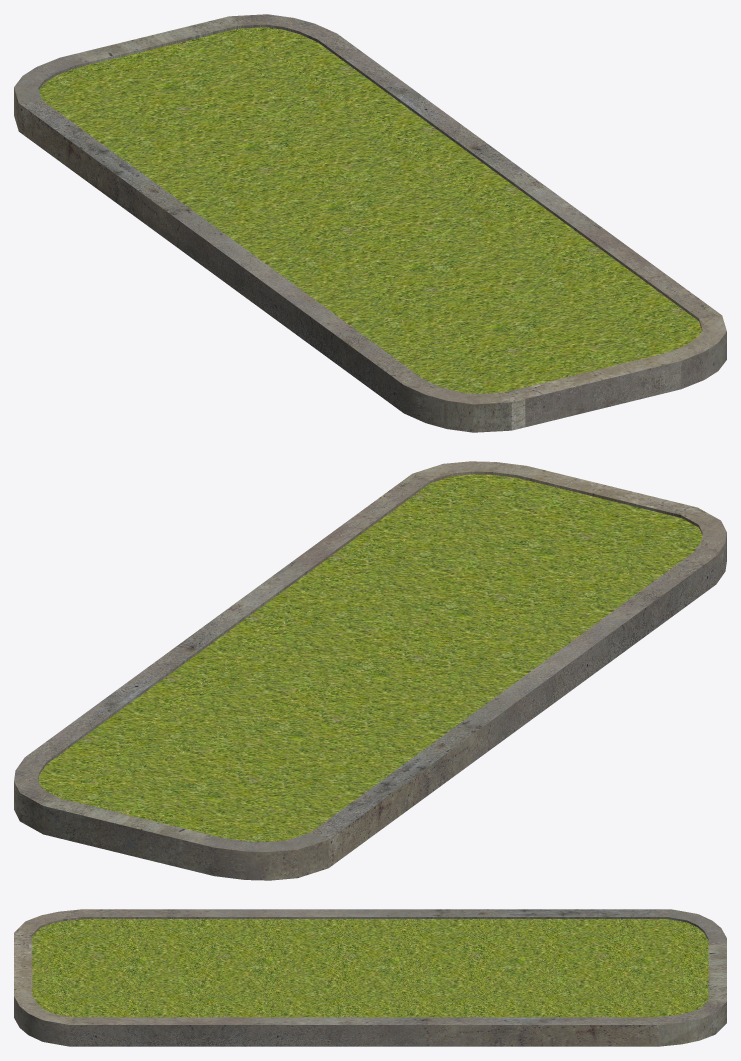
3 views of the same model, one above another, from view 1: azimuth 30°, elevation 25°; view 2: azimuth 150°, elevation 25°; view 3: azimuth 270°, elevation 25° (orthographic). The views are drawn at different scales.
Visible parts, largest first — view 1: Mesh (161); view 2: Mesh (161); view 3: Mesh (161).
Boxes of the visible parts, left/top/right/bottom form: Mesh (161): left=14, top=14, right=726, bottom=432; Mesh (161): left=14, top=461, right=726, bottom=880; Mesh (161): left=14, top=909, right=726, bottom=1046.
Size of the model in its own units: 240 by 21 by 626.
